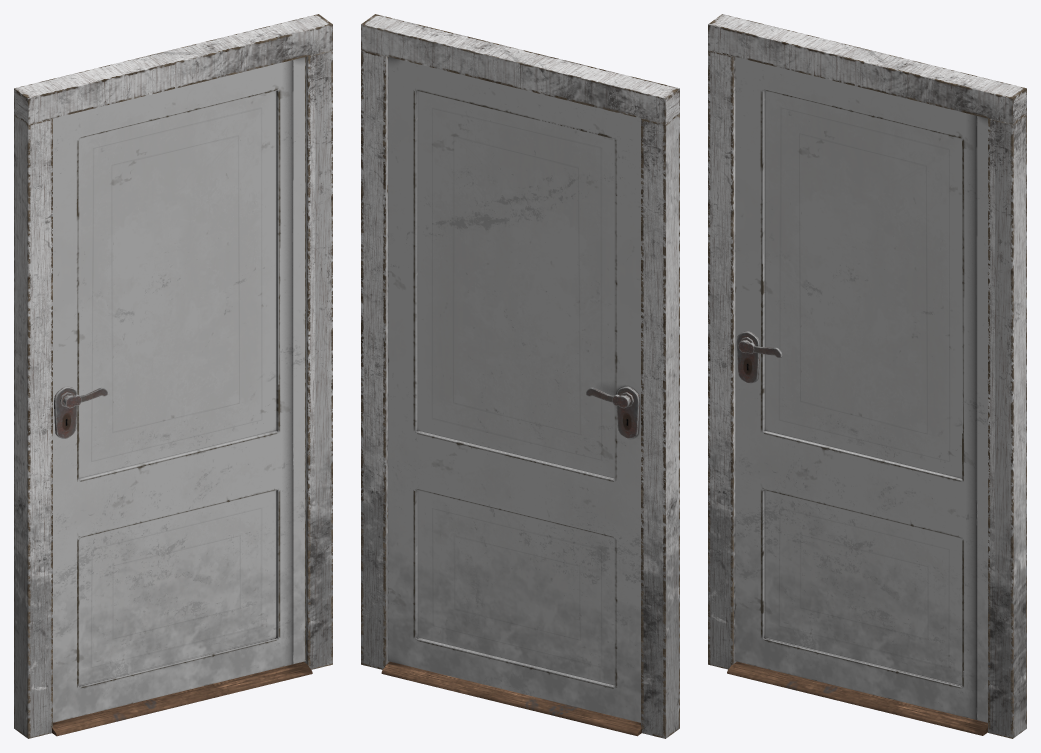
The model's file is door.glb.
3 views of the same model, side by side, from view 1: azimuth 30°, elevation 25°; view 2: azimuth 150°, elevation 25°; view 3: azimuth 330°, elevation 25° (orthographic).
Parts seen in each view (by area): view 1: Door__0.001, Door__0.002; view 2: Door__0.001, Door__0.002; view 3: Door__0.001, Door__0.002.
Boxes of the visible parts, <box> form: Door__0.001: <box>53,57,305,722</box>; Door__0.002: <box>14,14,332,738</box>; Door__0.001: <box>388,57,640,722</box>; Door__0.002: <box>361,14,679,738</box>; Door__0.001: <box>735,57,987,722</box>; Door__0.002: <box>708,14,1026,738</box>.
Size of the model in its own units: 2.08 by 4.18 by 0.2776.
Materials: 1 (1 with a texture image).
